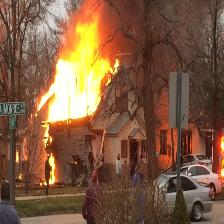fire: (27, 2, 116, 122)
